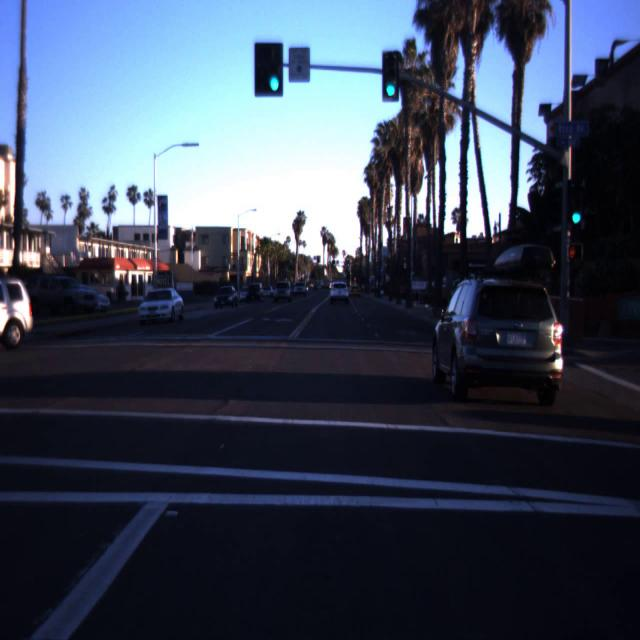yesil: (255, 43, 283, 97), (382, 52, 399, 102), (567, 180, 585, 227)
